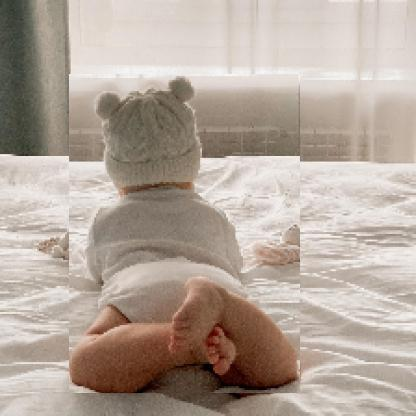child: (71, 75, 303, 395)
